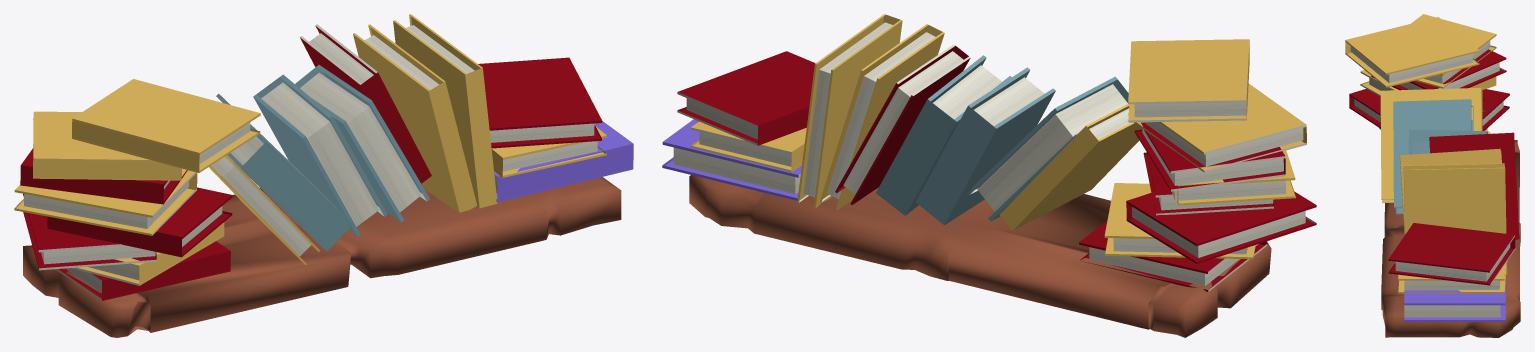
Rendered from Półka2.fbx.
The picture shows the model from 3 angles, left to right: view 1: azimuth 30°, elevation 25°; view 2: azimuth 150°, elevation 25°; view 3: azimuth 270°, elevation 25°; orthographic projection. The views are drawn at different scales.
Visible parts, largest first — view 1: półka, Książka7, Książka2, Książka13, Książka8, Książka10, Książka14, Książka6, Książka9, Książka4, Książka3, Książka18 (+7 smaller); view 2: półka, Książka7, Książka8, Książka2, Książka17, Książka14, Książka12, Książka10, Książka9, Książka6, Książka18, Książka13 (+7 smaller); view 3: Książka14, Książka7, Książka2, półka, Książka9, Książka15, Książka12, Książka18, Książka5, Ksiażka1, Książka13, Książka6 (+5 smaller).
Part boxes in pixels (x1,y1,x2,y2): półka: (23, 177, 621, 337); Książka7: (72, 79, 260, 172); Książka2: (478, 57, 602, 148); Książka13: (353, 24, 477, 212); Książka8: (253, 74, 387, 236); Książka10: (295, 65, 429, 222); Książka14: (393, 14, 497, 208); Książka6: (33, 111, 181, 180); Książka9: (216, 93, 352, 251); Książka4: (14, 168, 197, 235); Książka3: (47, 187, 232, 257); Książka18: (300, 24, 431, 183); półka: (689, 175, 1271, 337); Książka7: (1128, 39, 1249, 122); Książka8: (916, 67, 1055, 225); Książka2: (677, 51, 815, 145); Książka17: (1126, 191, 1316, 263); Książka14: (797, 14, 902, 208); Książka12: (999, 104, 1142, 230); Książka10: (876, 55, 1011, 215); Książka9: (969, 76, 1128, 221); Książka6: (1134, 83, 1306, 172); Książka18: (835, 44, 970, 204); Książka13: (820, 24, 944, 210); Książka14: (1403, 163, 1507, 274); Książka7: (1345, 17, 1479, 87); Książka2: (1388, 223, 1515, 285); półka: (1381, 140, 1520, 337); Książka9: (1393, 99, 1473, 214); Książka15: (1404, 281, 1505, 321); Książka12: (1380, 87, 1482, 202); Książka18: (1429, 132, 1519, 239); Książka5: (1371, 49, 1506, 90); Ksiażka1: (1398, 262, 1506, 293); Książka13: (1399, 148, 1507, 261); Książka6: (1410, 14, 1496, 88).
Bounding box in the file's own units: 132 × 42.34 × 47.28.
